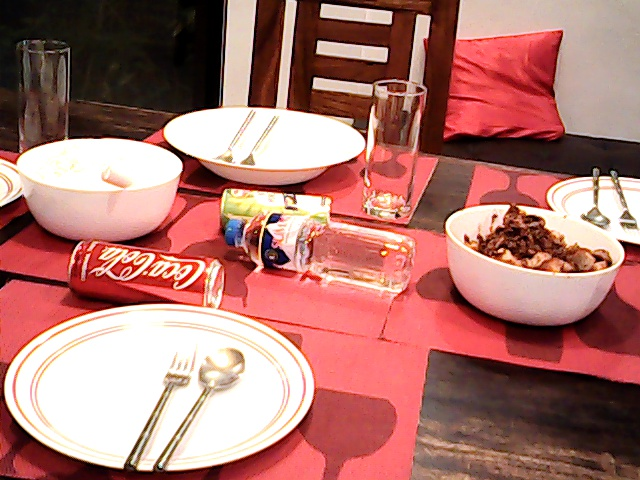Cola: (63, 234, 215, 306)
Pine Juice: (213, 185, 335, 228)
Summit Water: (227, 212, 408, 287)
